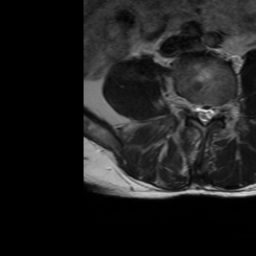CCS_normal: (199, 100, 207, 131)
LFS_normal: (217, 94, 226, 126)
LLS_normal: (207, 98, 216, 126)
RFS_normal: (185, 93, 193, 124)
RLS_normal: (193, 96, 199, 125)
